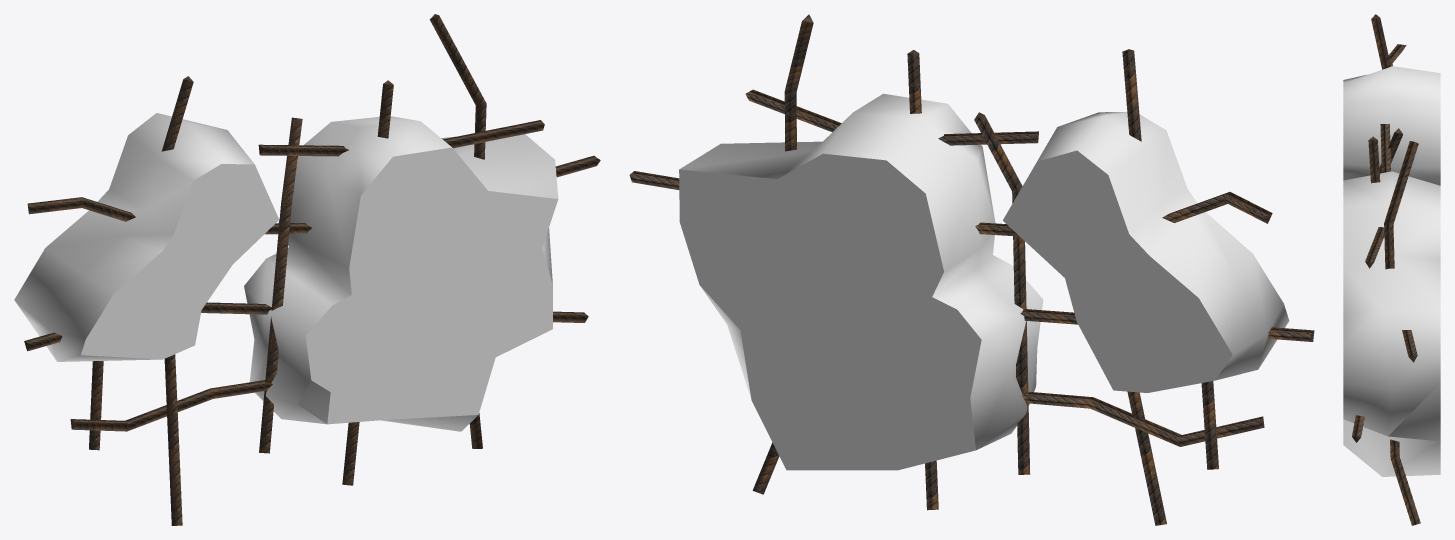
The model's file is Debris2_LOD1.fbx.
3 renders of one model, left to right at view 1: azimuth 30°, elevation 25°; view 2: azimuth 150°, elevation 25°; view 3: azimuth 270°, elevation 25°, orthographic. The views are drawn at different scales.
Visible parts, largest first — view 1: polySurface1275; view 2: polySurface1275; view 3: polySurface1275.
Part boxes in pixels (x1=…): polySurface1275: x1=14, y1=14, x2=600, y2=525; polySurface1275: x1=629, y1=14, x2=1314, y2=525; polySurface1275: x1=1343, y1=14, x2=1440, y2=525.
Bounding box in the file's own units: 2.09 × 1.56 × 0.3589.
